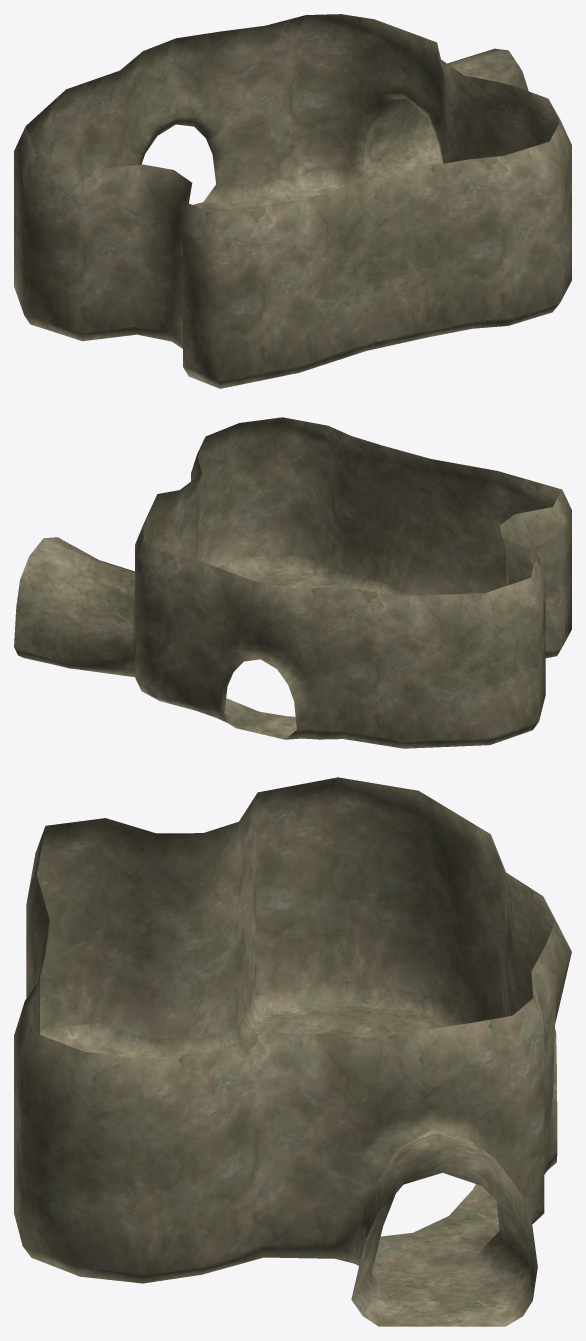
File: OVERHILL_A_01_CHIMNEY_CAVE.fbx
3 views of the same model, one above another, from view 1: azimuth 30°, elevation 25°; view 2: azimuth 150°, elevation 25°; view 3: azimuth 270°, elevation 25° (orthographic). The views are drawn at different scales.
Parts seen in each view (by area): view 1: OVERHILL_A_01_CHIMNEY_CAVE; view 2: OVERHILL_A_01_CHIMNEY_CAVE; view 3: OVERHILL_A_01_CHIMNEY_CAVE.
Part boxes in pixels (<box>): OVERHILL_A_01_CHIMNEY_CAVE: <box>14,14,571,388</box>; OVERHILL_A_01_CHIMNEY_CAVE: <box>14,417,571,748</box>; OVERHILL_A_01_CHIMNEY_CAVE: <box>14,777,571,1326</box>.
Size of the model in its own units: 148413 by 46832 by 104064.
Materials: 1 (1 with a texture image).
